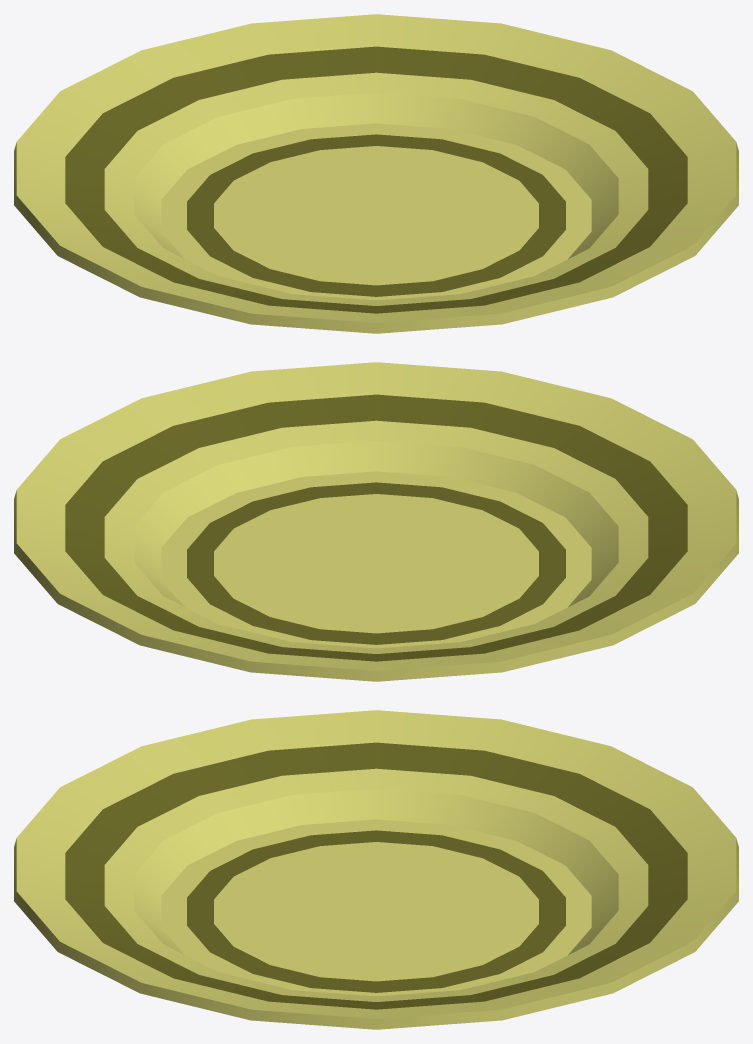
The model's file is ThrowProp_LargePlate_02.FBX.
The picture shows the model from 3 angles, top to bottom: view 1: azimuth 30°, elevation 25°; view 2: azimuth 150°, elevation 25°; view 3: azimuth 270°, elevation 25°; orthographic projection.
Parts seen in each view (by area): view 1: GroteTallore001; view 2: GroteTallore001; view 3: GroteTallore001.
Part boxes in pixels (box(x1,y1,x2,y2)): GroteTallore001: box(14, 14, 738, 333); GroteTallore001: box(14, 362, 738, 681); GroteTallore001: box(14, 710, 738, 1029).
Size of the model in its own units: 26 by 2.2 by 25.6.
Materials: 1 (1 with a texture image).
